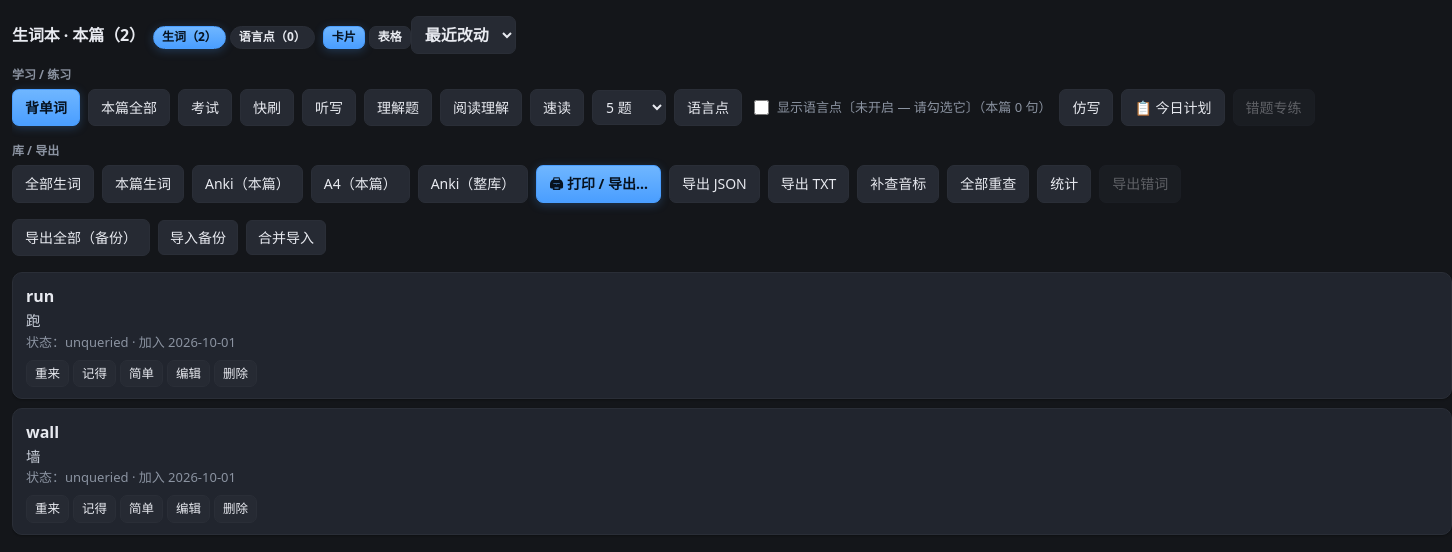
Test: SideVocab：生词 / 语言点 分开显示 › 本篇没有语言点时，语言点页签给提示而不是空白
Click the button "语言点（0）". click: x=272, y=37
box: x1=230 y1=26 x2=315 y2=49
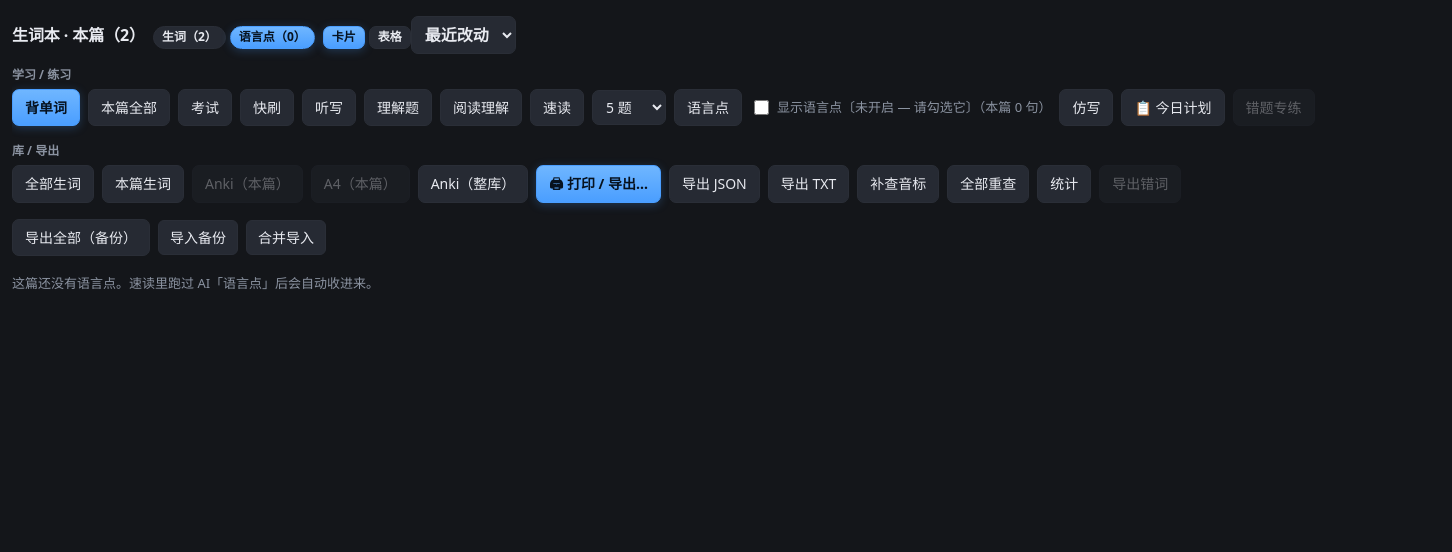
Expected: the text "这篇还没有语言点。速读里跑过 AI「语言点」后会自动收进来。" is shown, x1=12 y1=274 x2=379 y2=292
